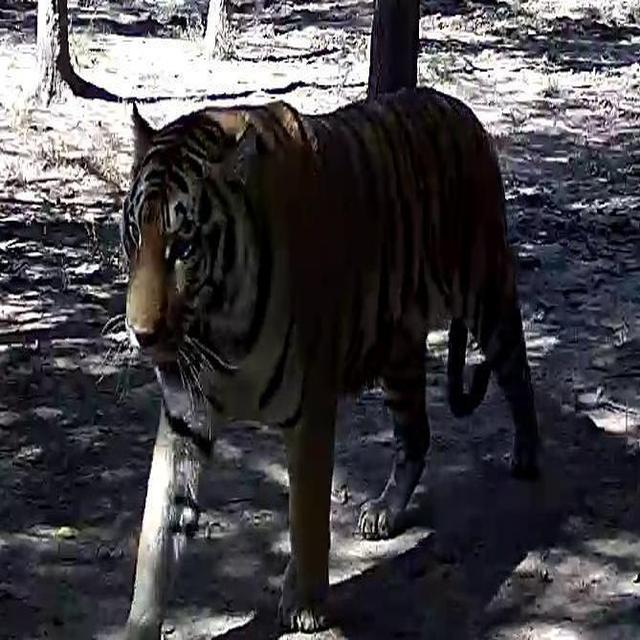tiger: (110, 83, 542, 636)
